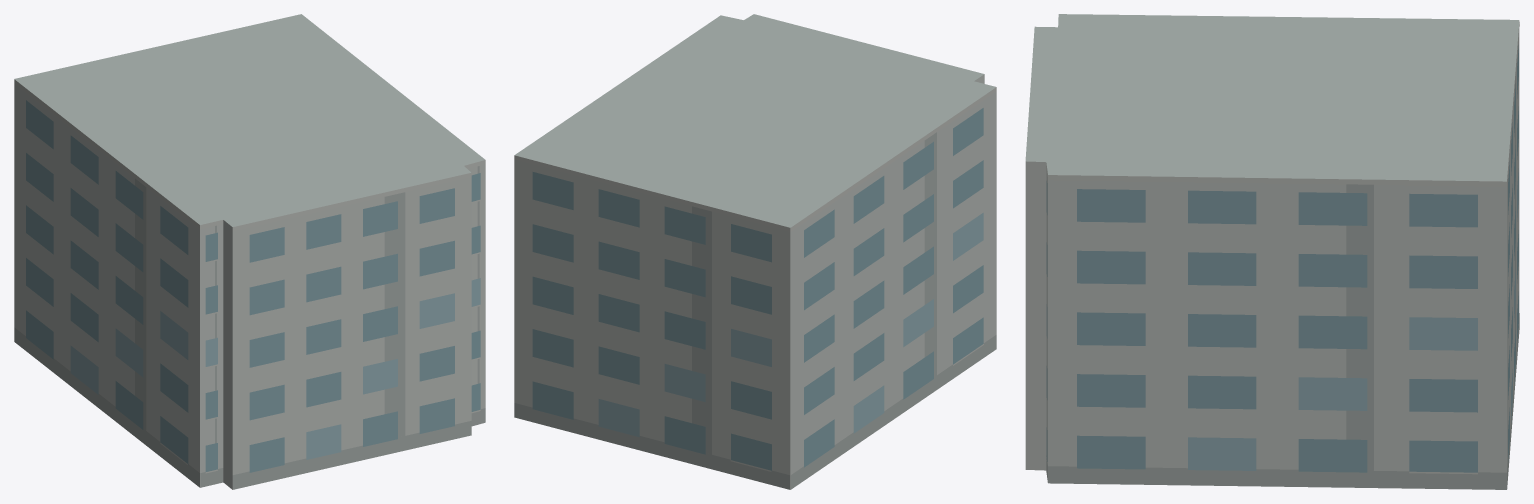
File: survey-upis-32776795.glb
The picture shows the model from 3 angles, left to right: view 1: azimuth 30°, elevation 25°; view 2: azimuth 150°, elevation 25°; view 3: azimuth 270°, elevation 25°; orthographic projection. The views are drawn at different scales.
Visible parts, largest first — view 1: survey-upis-32776795.tmp; view 2: survey-upis-32776795.tmp; view 3: survey-upis-32776795.tmp.
Boxes of the visible parts, box(x1,y1,x2,y2) form: survey-upis-32776795.tmp: box(14, 14, 485, 489); survey-upis-32776795.tmp: box(514, 14, 996, 489); survey-upis-32776795.tmp: box(1025, 14, 1519, 489).
Bounding box in the file's own units: 17.25 × 14.8 × 21.5.
